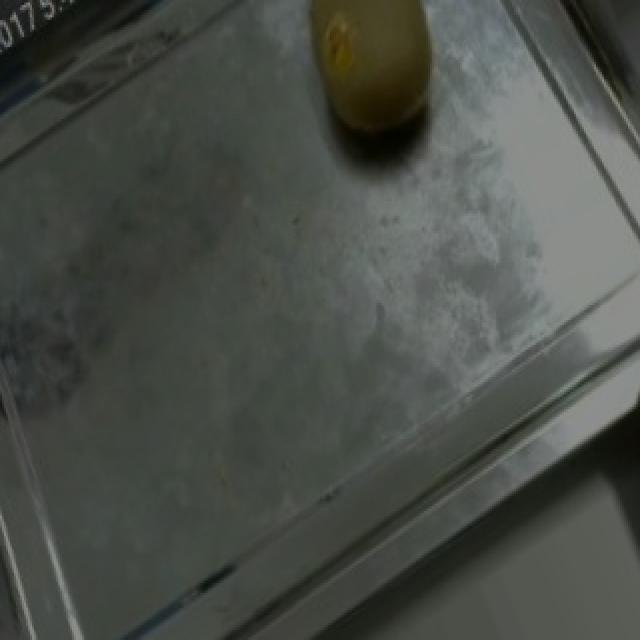Fruit: (268, 0, 476, 189)
